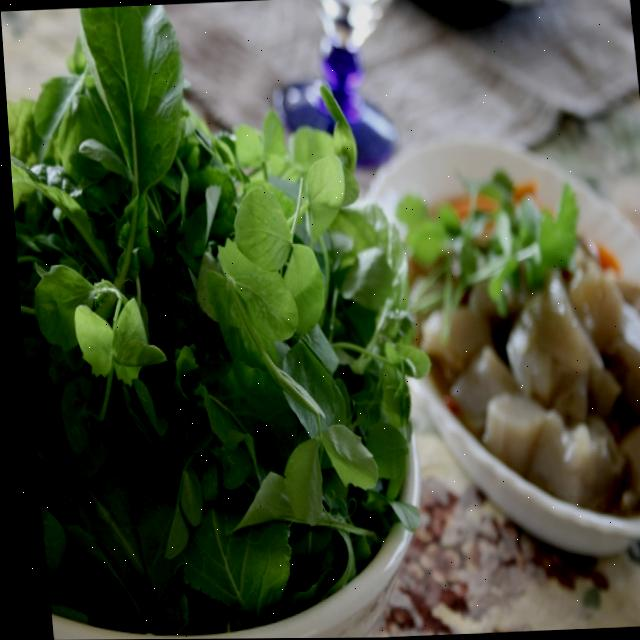蔬菜料理: (0, 0, 439, 640)
